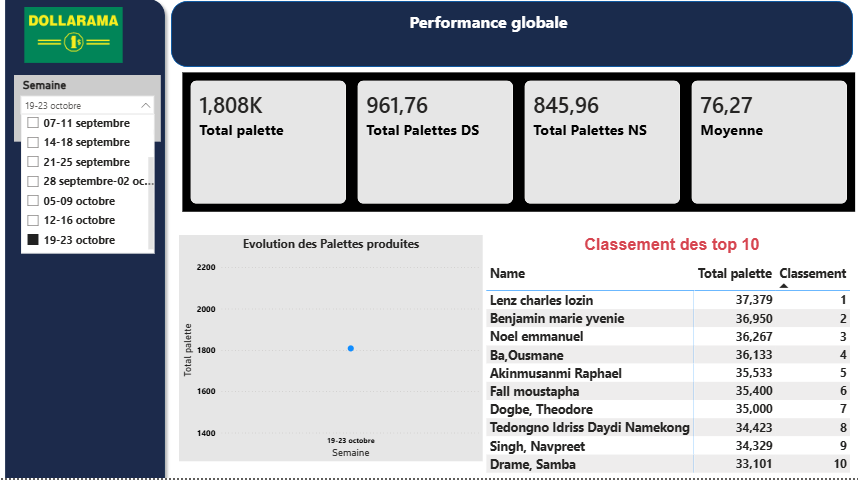

What the dashboard file says about the page in this screenshot:
{"tool":"powerbi","page":{"name":"Page 1","canvas":[1280,720],"ordinal":0},"visuals":[{"type":"shape","box":[255.4,11.9,1012.7,98],"z":5},{"type":"shape","box":[0,0,255.4,849.4],"z":6},{"type":"textbox","box":[403.9,20.8,645.9,68.3],"z":8},{"type":"image","box":[35.6,20.8,150,83.2],"z":9},{"type":"slicer","fields":{"Values":["Table.Semaine"]},"box":[22.3,121.8,218.3,66.8],"z":10},{"type":"areaChart","title":"Evolution  des Palettes produites","fields":{"Category":["Table.Semaine"],"Y":["Mesures.Total palette"]},"box":[267.2,359.1,451.1,335.5],"z":12},{"type":"cardVisual","fields":{"Data":["Mesures.Total palette","Mesures.Total Palettes DS","Mesures.Total Palettes NS","Mesures.Moyenne"]},"box":[267.2,113.1,1012.8,217.5],"z":13},{"type":"pivotTable","title":"Classement  par palettes produites","fields":{"Rows":["Table.Name"],"Values":["Mesures.Total palette","Mesures.Rang Pal"]},"box":[718.7,359.4,561.3,349],"z":14}]}

Visuals, with their boxes in screenshot pixels (x1, y1, x2, y2), scaled from the page's 1280x720 canvas onto the 858x484 screenshot:
shape: bbox(171, 8, 850, 74)
shape: bbox(0, 0, 171, 483)
textbox: bbox(271, 14, 704, 60)
image: bbox(24, 14, 124, 70)
slicer - Table.Semaine: bbox(15, 82, 161, 127)
"Evolution  des Palettes produites" areaChart: bbox(179, 241, 481, 467)
cardVisual - Mesures.Total palette x Mesures.Total Palettes DS: bbox(179, 76, 857, 222)
"Classement  par palettes produites" pivotTable: bbox(482, 242, 857, 476)
